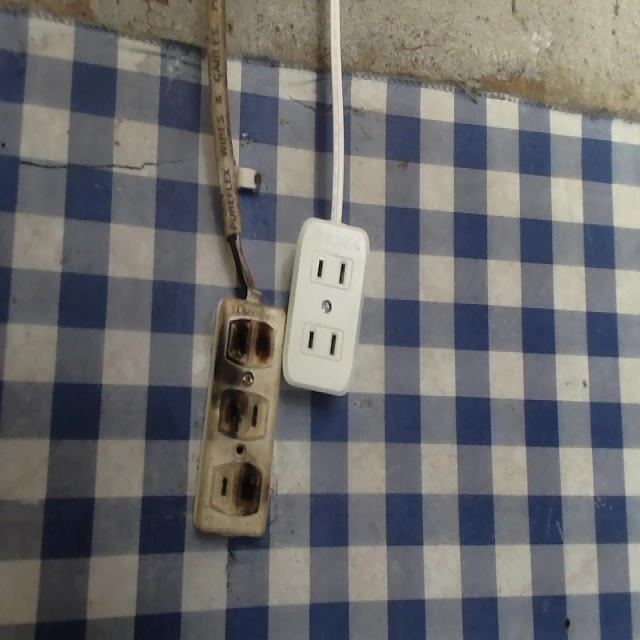-: (223, 312, 292, 376), (234, 460, 273, 537), (215, 388, 249, 443)
